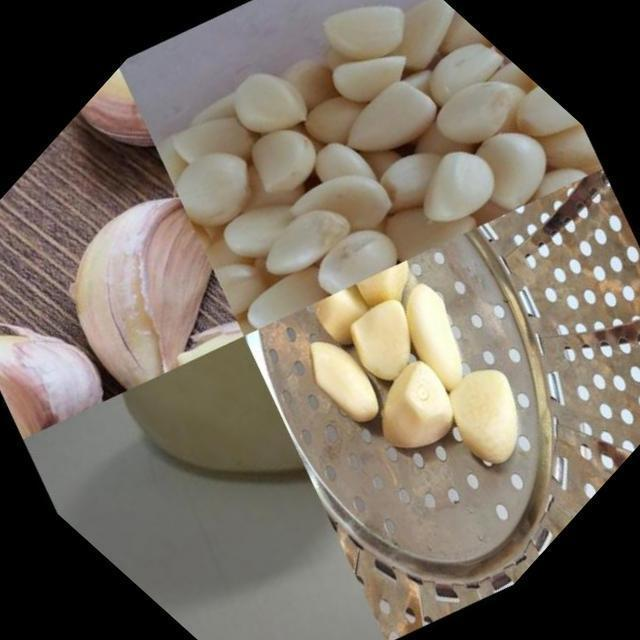garlic: (68, 0, 614, 437), (223, 194, 606, 576), (66, 297, 357, 587), (9, 151, 286, 427), (0, 234, 152, 463), (46, 65, 210, 229), (0, 107, 126, 299)
